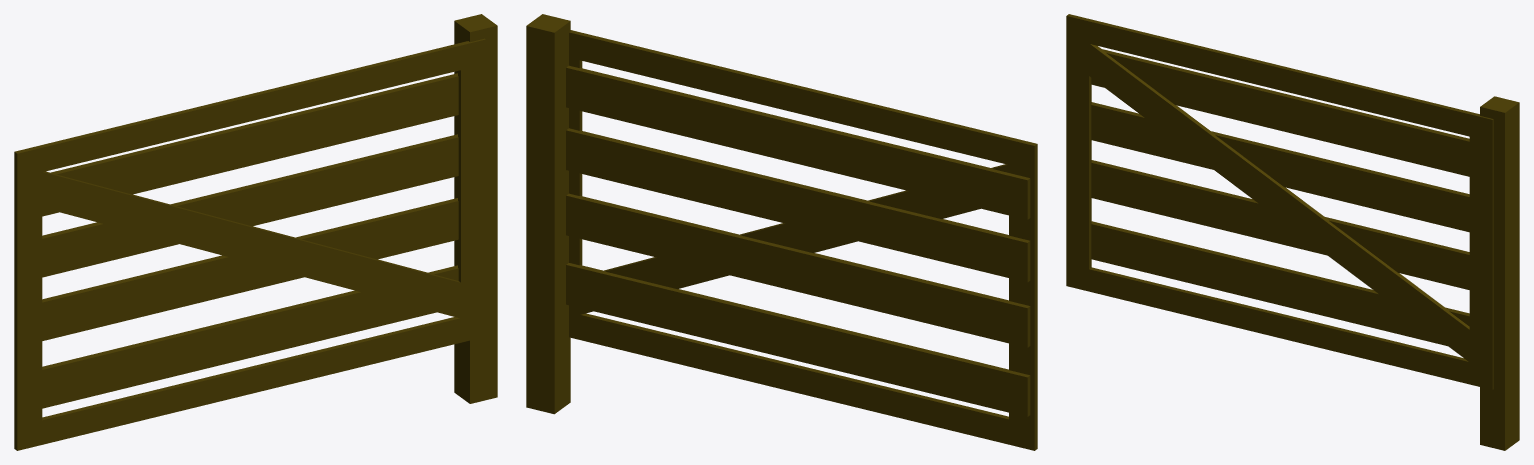
The model's file is Wooden Fence Right Post.fbx.
3 views of the same model, side by side, from view 1: azimuth 30°, elevation 25°; view 2: azimuth 150°, elevation 25°; view 3: azimuth 330°, elevation 25° (orthographic). The views are drawn at different scales.
Visible parts, largest first — view 1: pCube21, pCube22; view 2: pCube21, pCube22; view 3: pCube21, pCube22.
Part boxes in pixels (x1,y1,x2,y2): pCube21: (14,38,485,450); pCube22: (454,14,497,403); pCube21: (566,30,1037,450); pCube22: (526,14,570,414); pCube21: (1066,14,1493,389); pCube22: (1480,96,1519,450).
Size of the model in its own units: 3.5 by 2.59 by 0.2138.
